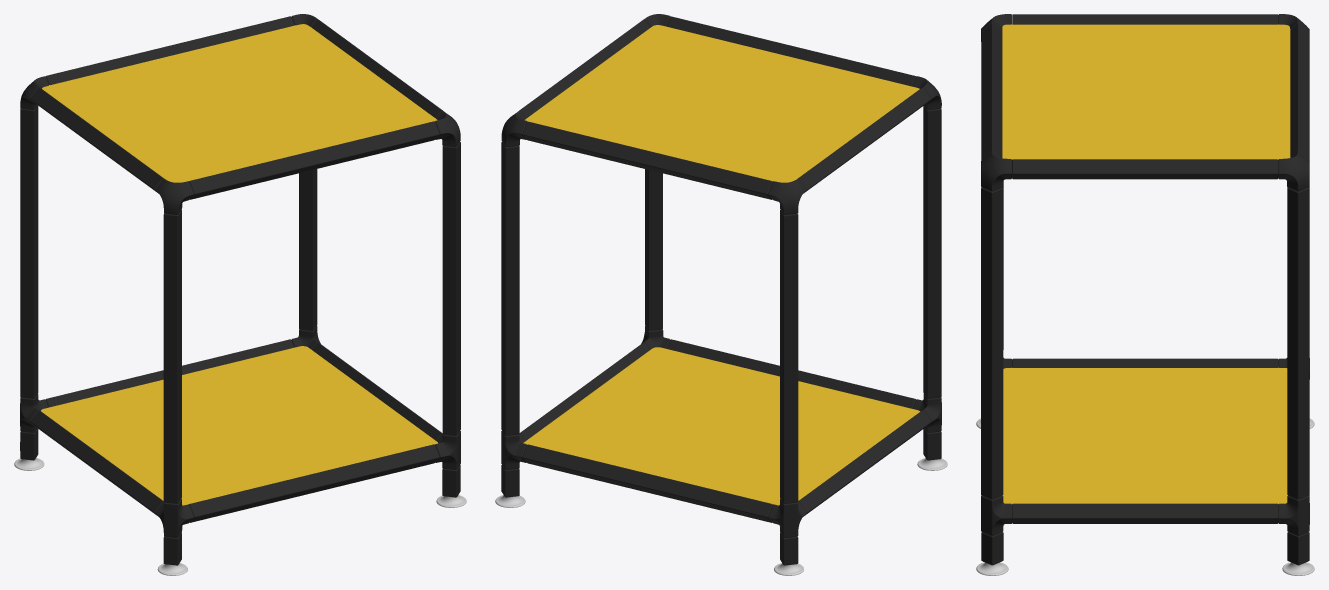
The picture shows the model from 3 angles, left to right: view 1: azimuth 30°, elevation 25°; view 2: azimuth 150°, elevation 25°; view 3: azimuth 270°, elevation 25°; orthographic projection. The views are drawn at different scales.
Visible parts, largest first — view 1: 374x329x420; view 2: 374x329x420; view 3: 374x329x420.
Part boxes in pixels (x1=…): 374x329x420: x1=14, y1=14, x2=466, y2=575; 374x329x420: x1=495, y1=14, x2=947, y2=575; 374x329x420: x1=976, y1=14, x2=1314, y2=575.
Bounding box in the file's own units: 0.4639 × 0.5593 × 0.4181.
